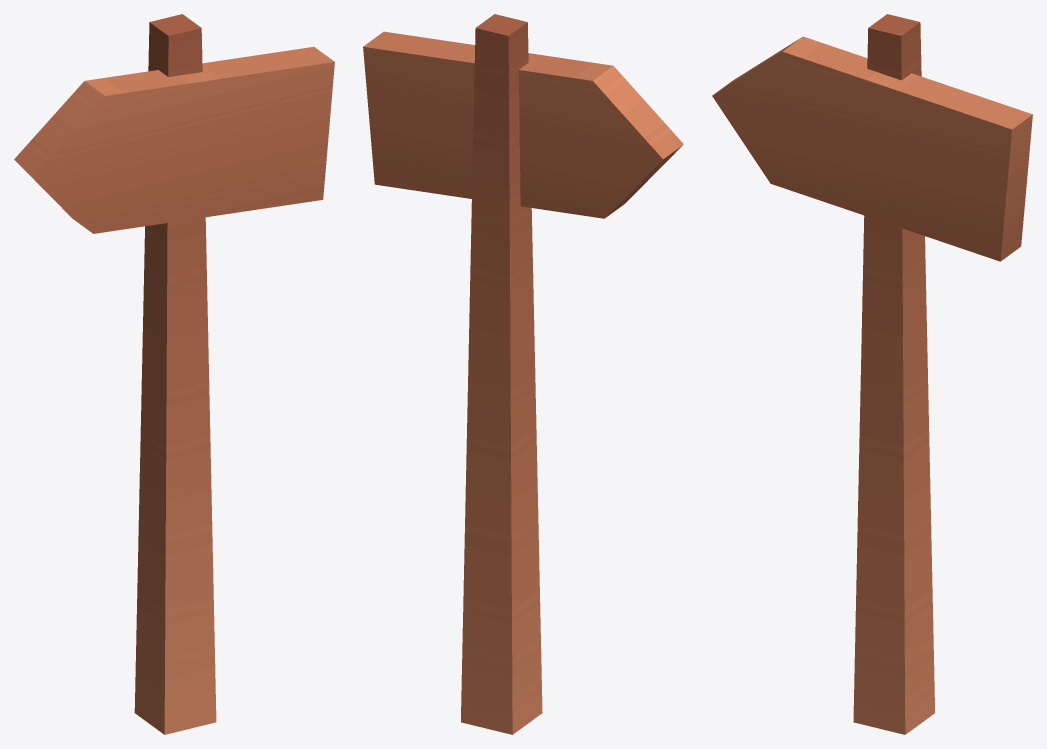
The model's file is prop-ks-signpost-single.glb.
3 views of the same model, side by side, from view 1: azimuth 30°, elevation 25°; view 2: azimuth 150°, elevation 25°; view 3: azimuth 330°, elevation 25° (orthographic).
Visible parts, largest first — view 1: signpost-single; view 2: signpost-single; view 3: signpost-single.
Boxes of the visible parts, left/top/right/bottom form: signpost-single: left=14, top=14, right=334, bottom=734; signpost-single: left=363, top=14, right=683, bottom=734; signpost-single: left=712, top=14, right=1032, bottom=734.
Size of the model in its own units: 0.6259 by 1.38 by 0.1289.
Materials: 1 (1 with a texture image).
